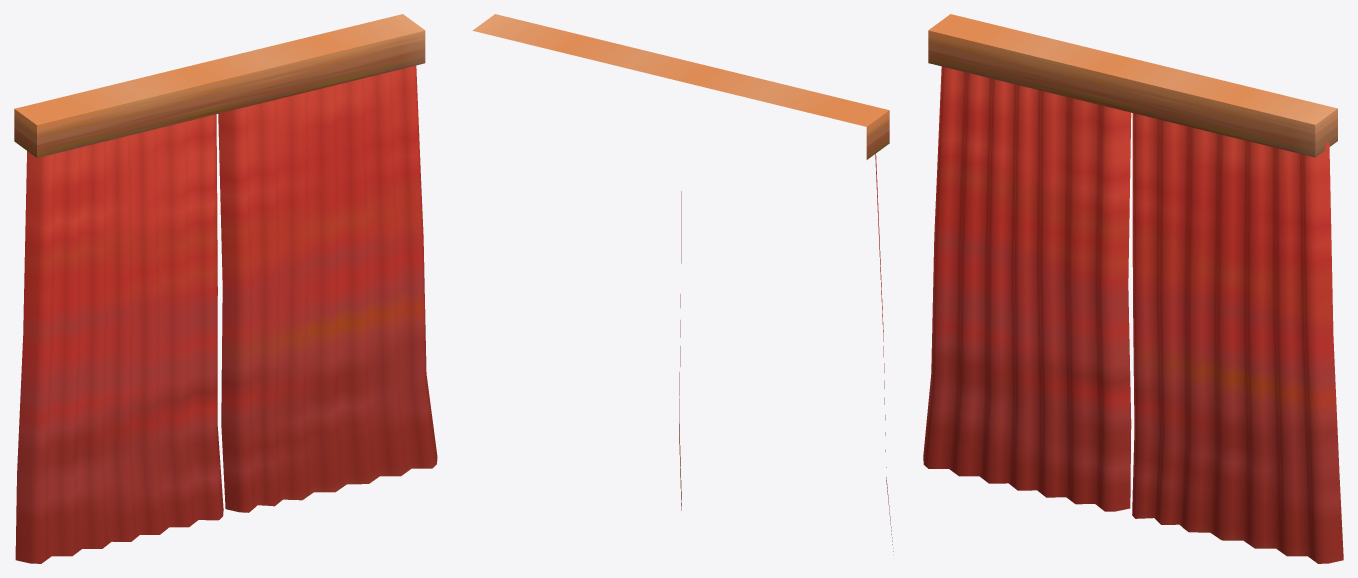
Rendered from c904fc83-0b46-44fe-8392-670bef85e1a1.glb.
The picture shows the model from 3 angles, left to right: view 1: azimuth 30°, elevation 25°; view 2: azimuth 150°, elevation 25°; view 3: azimuth 330°, elevation 25°; orthographic projection.
Parts seen in each view (by area): view 1: VelvetWallCurtainsClose; view 2: VelvetWallCurtainsClose; view 3: VelvetWallCurtainsClose.
Boxes of the visible parts, <box> form: VelvetWallCurtainsClose: <box>14,14,437,563</box>; VelvetWallCurtainsClose: <box>472,14,893,551</box>; VelvetWallCurtainsClose: <box>923,14,1343,563</box>.
Size of what is drawn, in the model's own units: 2.67 by 2.65 by 0.2709.
1 material, 1 textured.
